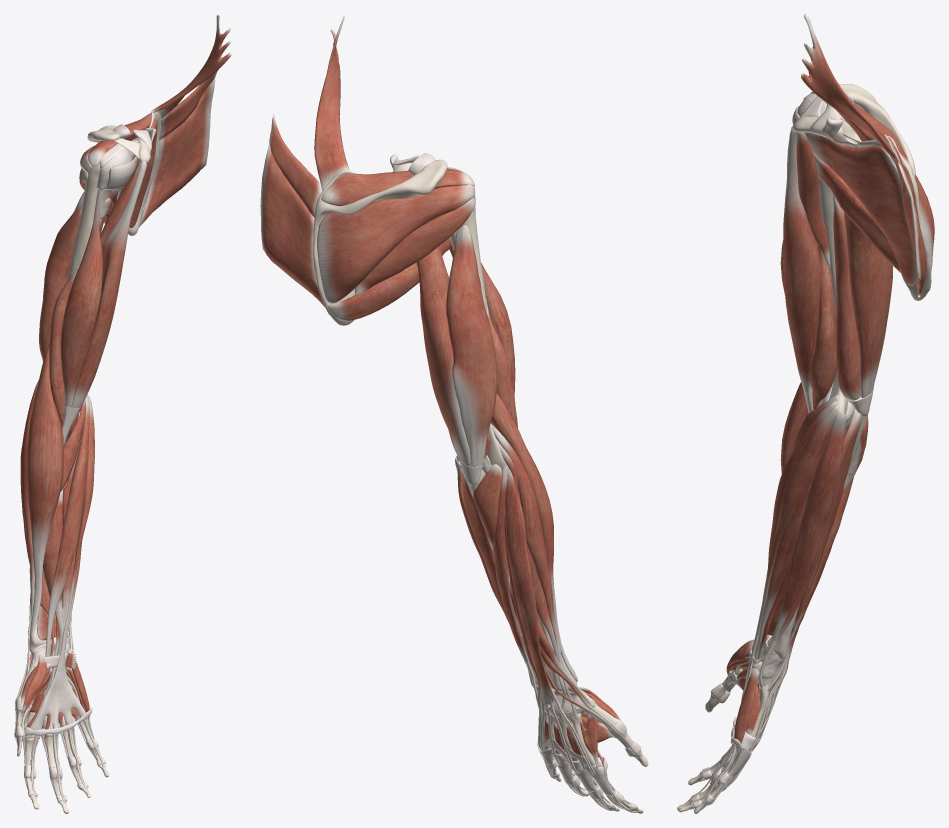
The model's file is upper-muscles-prepared.glb.
3 renders of one model, left to right at view 1: azimuth 30°, elevation 25°; view 2: azimuth 150°, elevation 25°; view 3: azimuth 270°, elevation 25°, orthographic. The views are drawn at different scales.
Visible parts, largest first — view 1: Brachioradialis muscle.r, Long head of biceps brachii.r, Rhomboid major muscle.r, Short head of biceps brachii.r, Flexor carpi radialis.r, Lateral head of triceps brachii.r, Flexor digitorum superficialis humero-ulnar head.r, Brachialis muscle.r, Aponeurosis palmaris.r, Humerus.r, Palmaris longus muscle.r, Levator scapulae.r (+13 smaller); view 2: Infraspinatus muscle.r, Lateral head of triceps brachii.r, Rhomboid major muscle.r, Long head of triceps brachii.r, Extensor digitorum.r, Scapula.r., Levator scapulae.r, Teres minor muscle.r, Extensor carpi radialis longus.r, Brachioradialis muscle.r, Supraspinatus muscle.r, Teres major muscle.r (+9 smaller); view 3: Short head of biceps brachii.r, Subscapularis muscle.r, Long head of triceps brachii.r, Humeral head of flexor carpi ulnaris.r, Medial head of triceps brachii.r, Scapula.r., Palmaris longus muscle.r, Brachialis muscle.r, Levator scapulae.r, Flexor digitorum superficialis humero-ulnar head.r, Coracobrachialis muscle.r, Teres major muscle.r (+14 smaller).
Part boxes in pixels (<box>): Brachioradialis muscle.r: <box>27,343,63,643</box>; Long head of biceps brachii.r: <box>60,189,102,407</box>; Rhomboid major muscle.r: <box>138,79,215,227</box>; Short head of biceps brachii.r: <box>71,161,146,407</box>; Flexor carpi radialis.r: <box>45,395,90,673</box>; Lateral head of triceps brachii.r: <box>39,192,84,361</box>; Flexor digitorum superficialis humero-ulnar head.r: <box>30,440,97,782</box>; Brachialis muscle.r: <box>49,266,86,444</box>; Aponeurosis palmaris.r: <box>30,671,85,729</box>; Humerus.r: <box>67,157,111,280</box>; Palmaris longus muscle.r: <box>56,395,94,672</box>; Levator scapulae.r: <box>153,14,231,119</box>; Infraspinatus muscle.r: <box>317,185,475,303</box>; Lateral head of triceps brachii.r: <box>446,225,497,466</box>; Rhomboid major muscle.r: <box>260,143,325,307</box>; Long head of triceps brachii.r: <box>416,245,471,466</box>; Extensor digitorum.r: <box>505,467,619,804</box>; Scapula.r.: <box>313,159,447,325</box>; Levator scapulae.r: <box>314,14,349,190</box>; Teres minor muscle.r: <box>354,198,475,294</box>; Extensor carpi radialis longus.r: <box>491,424,577,719</box>; Brachioradialis muscle.r: <box>491,393,577,681</box>; Supraspinatus muscle.r: <box>321,168,474,206</box>; Teres major muscle.r: <box>328,237,452,320</box>; Short head of biceps brachii.r: <box>783,125,821,392</box>; Subscapularis muscle.r: <box>792,106,916,285</box>; Long head of triceps brachii.r: <box>844,212,892,398</box>; Humeral head of flexor carpi ulnaris.r: <box>772,410,846,640</box>; Medial head of triceps brachii.r: <box>833,194,861,400</box>; Scapula.r.: <box>793,84,931,300</box>; Palmaris longus muscle.r: <box>748,405,839,675</box>; Brachialis muscle.r: <box>809,246,837,409</box>; Levator scapulae.r: <box>801,14,905,166</box>; Flexor digitorum superficialis humero-ulnar head.r: <box>709,429,831,792</box>; Coracobrachialis muscle.r: <box>796,132,830,267</box>; Teres major muscle.r: <box>814,155,931,281</box>.
Bounding box in the file's own units: 0.3365 × 0.8405 × 0.2125.
42 materials, 8 textured.
